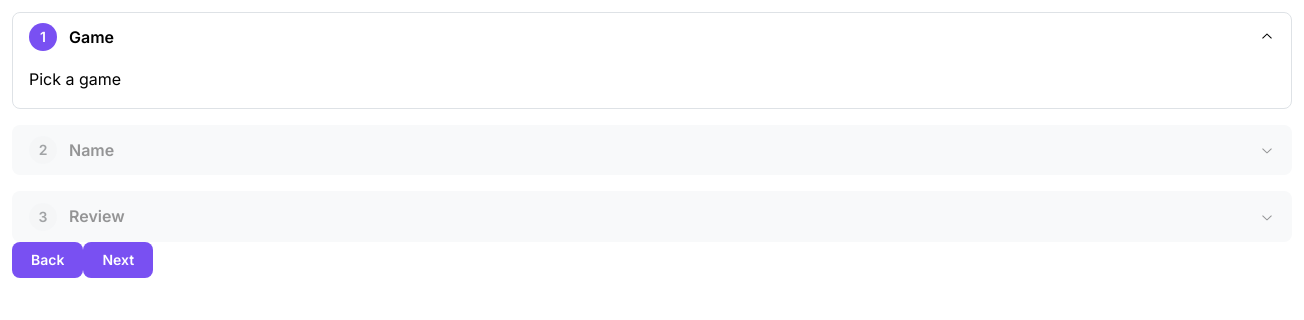
FormSections › sums up a completed section and names its state in words
Click the button "Next": (118, 260) x1=83 y1=242 x2=153 y2=278
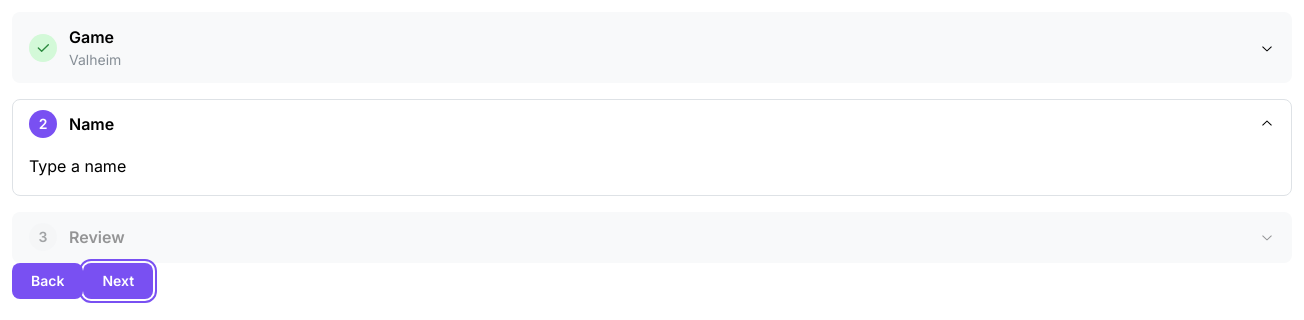
Expected: the button "Game Valheim" is collapsed, x1=13 y1=13 x2=1291 y2=82
Expected: the button "Game Valheim" is shown, x1=13 y1=13 x2=1291 y2=82
Expected: the button "Name 2" is expanded, x1=13 y1=100 x2=1291 y2=149
